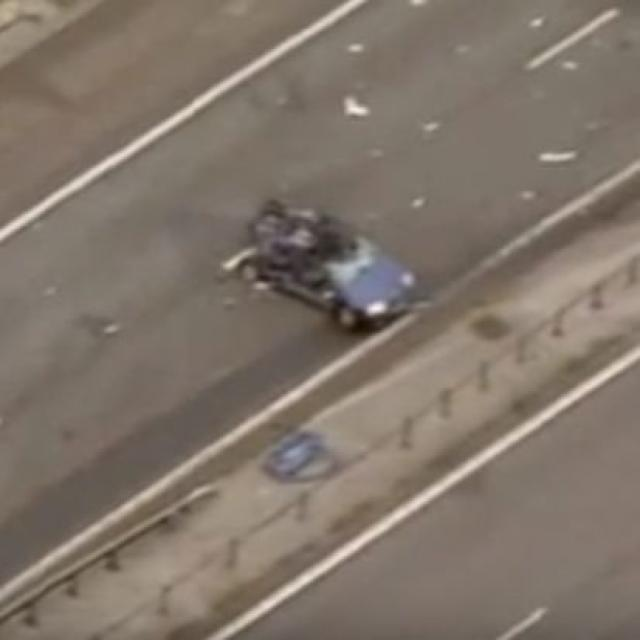traffic_incident: (236, 183, 426, 333)
